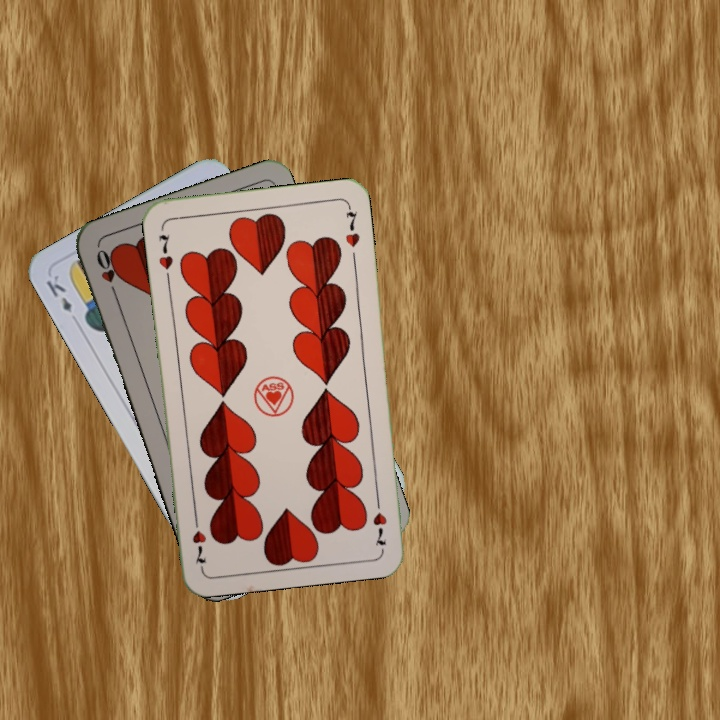EK: (41, 271, 82, 327)
H7: (369, 492, 390, 549), (154, 230, 176, 283)
HO: (92, 245, 121, 302)
